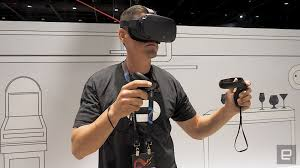oculus: (128, 15, 177, 46)
